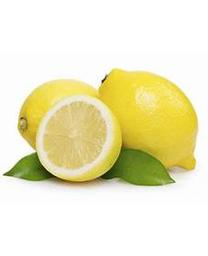lemon: (98, 67, 199, 171), (36, 95, 123, 183), (17, 78, 114, 148)
